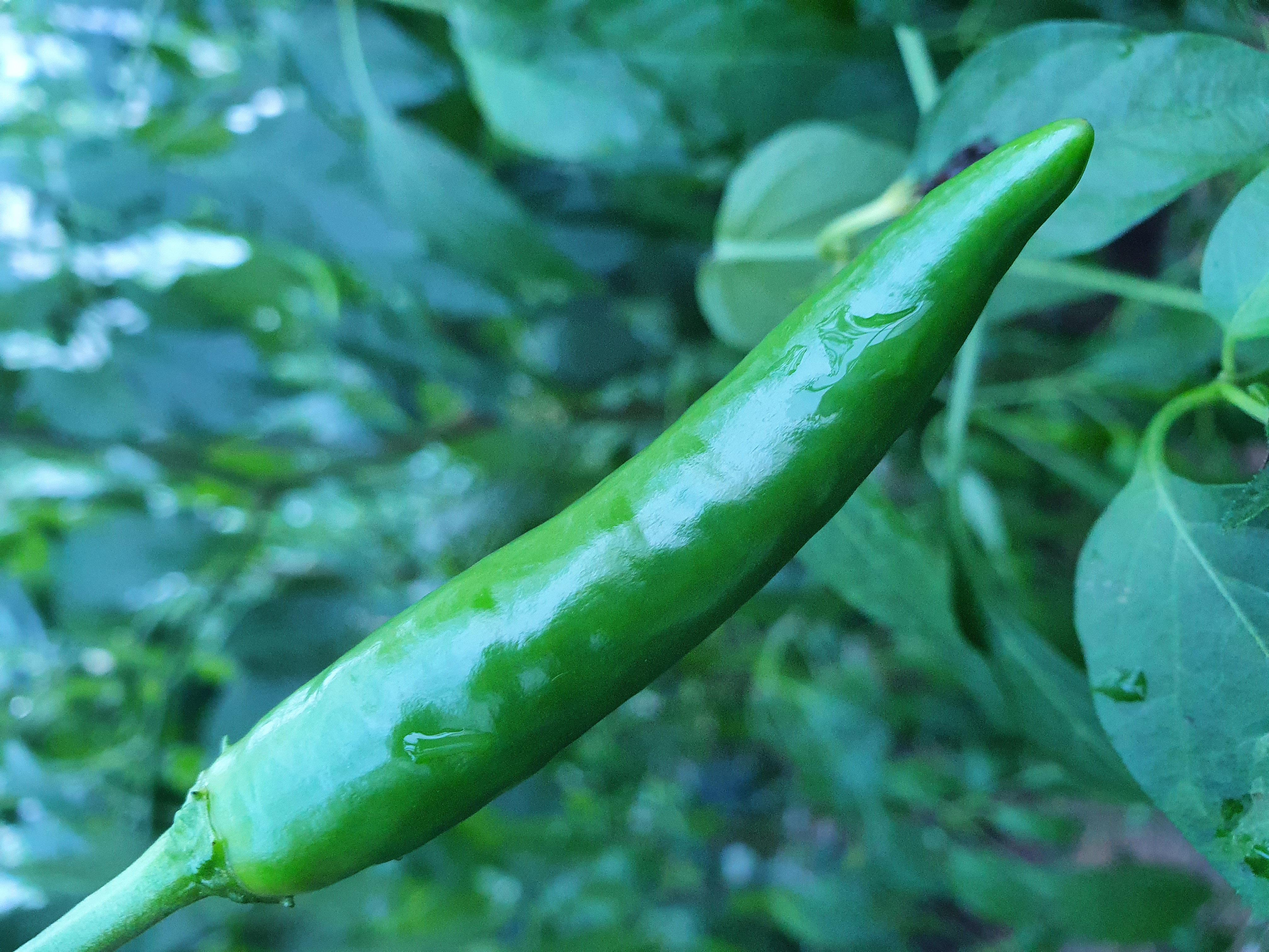Buah Cabai Sehat: (164, 107, 1103, 907)
